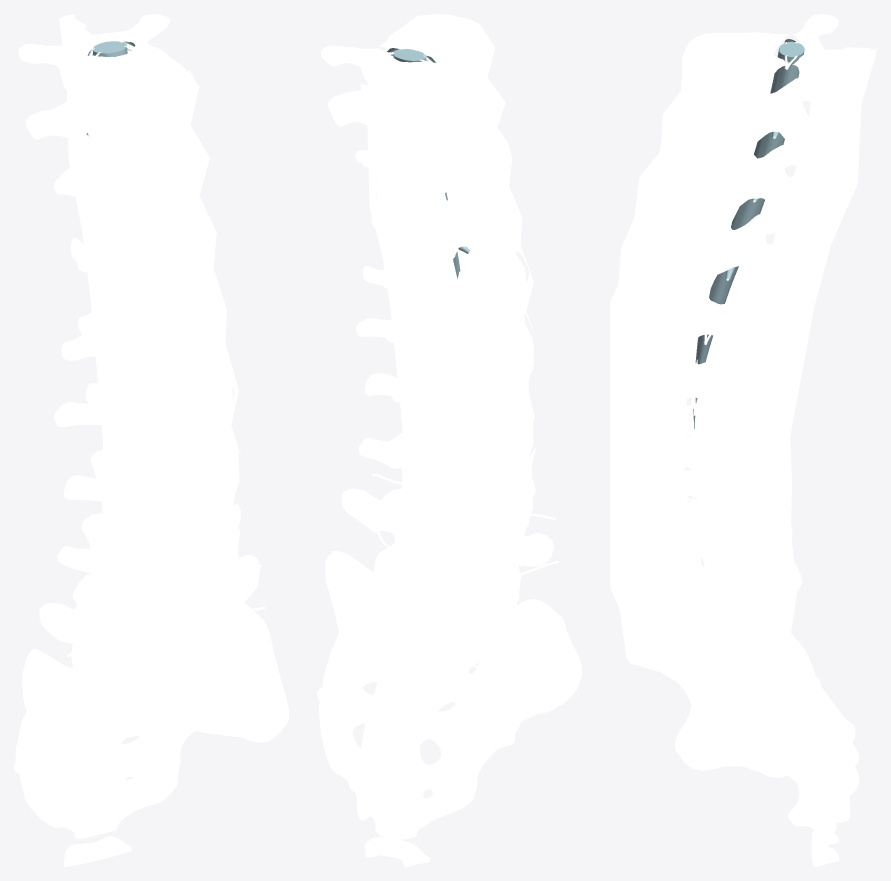
The model's file is spinal_canal.glb.
3 views of the same model, side by side, from view 1: azimuth 30°, elevation 25°; view 2: azimuth 150°, elevation 25°; view 3: azimuth 270°, elevation 25° (orthographic). The views are drawn at different scales.
Parts seen in each view (by area): view 1: Anterior longitudinal ligament, Sacrum, Vertebra L3, Vertebra L4, Vertebra L2, Vertebra L5, Vertebra T9, Vertebra L1, Vertebra T10, Vertebra T11, Vertebra T12, Intervertebral disc L4-L5 (+9 smaller); view 2: Sacrum, Vertebra L5, Vertebra T9, Vertebra L4, Vertebra T10, Vertebra L3, Vertebra L2, Supraspinous ligament, Vertebra L1, Vertebra T11, Vertebra T12, Interspinous ligaments (+12 smaller); view 3: Sacrum, Interspinous ligaments, Anterior longitudinal ligament, Vertebra L3, Vertebra L4, Vertebra L2, Vertebra L5, Vertebra L1, Vertebra T12, Vertebra T10, Vertebra T9, Vertebra T11 (+15 smaller).
Boxes of the visible parts, bbox=[...] form: Anterior longitudinal ligament: bbox=[114, 70, 241, 737]; Sacrum: bbox=[14, 602, 288, 838]; Vertebra L3: bbox=[63, 449, 240, 557]; Vertebra L4: bbox=[57, 504, 240, 632]; Vertebra L2: bbox=[54, 375, 238, 480]; Vertebra L5: bbox=[39, 555, 259, 703]; Vertebra T9: bbox=[18, 14, 187, 97]; Vertebra L1: bbox=[61, 307, 228, 398]; Vertebra T10: bbox=[25, 68, 189, 172]; Vertebra T11: bbox=[54, 141, 183, 240]; Vertebra T12: bbox=[70, 219, 147, 321]; Intervertebral disc L4-L5: bbox=[119, 607, 232, 653]; Sacrum: bbox=[317, 550, 581, 839]; Vertebra L5: bbox=[341, 488, 553, 612]; Vertebra T9: bbox=[321, 14, 484, 145]; Vertebra L4: bbox=[358, 432, 535, 546]; Vertebra T10: bbox=[328, 49, 493, 213]; Vertebra L3: bbox=[364, 357, 534, 494]; Vertebra L2: bbox=[355, 289, 533, 435]; Supraspinous ligament: bbox=[360, 83, 417, 535]; Vertebra L1: bbox=[362, 227, 525, 386]; Vertebra T11: bbox=[355, 108, 503, 261]; Vertebra T12: bbox=[371, 162, 515, 313]; Interspinous ligaments: bbox=[368, 66, 438, 630]; Sacrum: bbox=[647, 607, 859, 836]; Interspinous ligaments: bbox=[737, 49, 876, 634]; Anterior longitudinal ligament: bbox=[610, 32, 707, 681]; Vertebra L3: bbox=[610, 398, 790, 503]; Vertebra L4: bbox=[610, 470, 792, 574]; Vertebra L2: bbox=[610, 335, 790, 440]; Vertebra L5: bbox=[621, 546, 802, 645]; Vertebra L1: bbox=[625, 285, 802, 388]; Vertebra T12: bbox=[645, 200, 817, 308]; Vertebra T10: bbox=[681, 74, 852, 192]; Vertebra T9: bbox=[687, 14, 862, 123]; Vertebra T11: bbox=[661, 131, 834, 246].
Bounding box in the file's own units: 0.116 × 0.38 × 0.1144.
